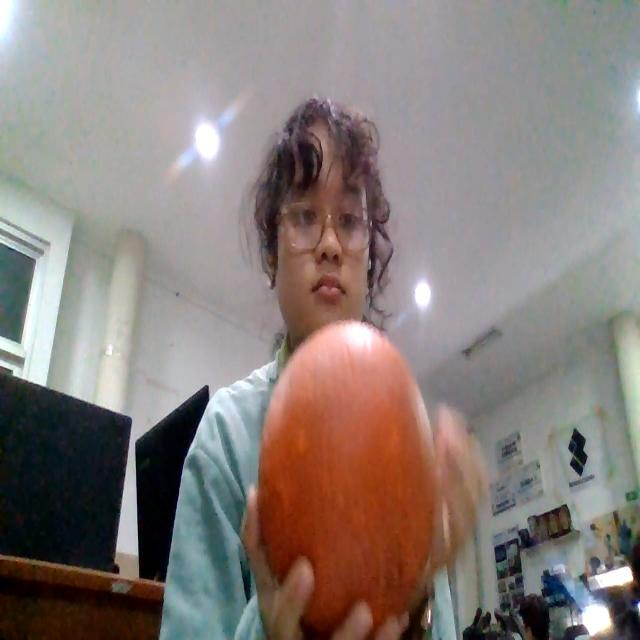ball: (256, 318, 438, 638)
